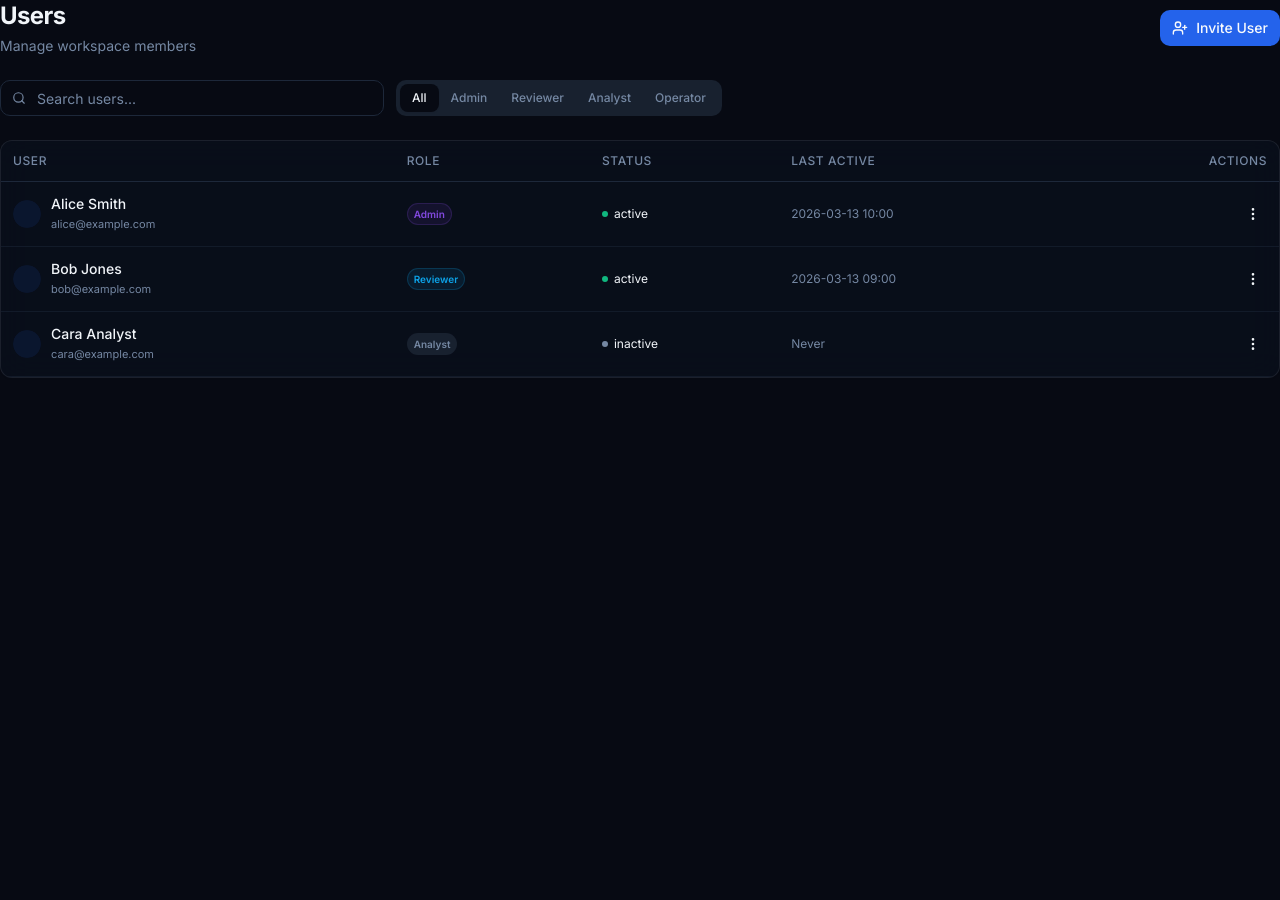
UsersPage › validates invite email before submitting
The image size is (1280, 900).
Click the button "Invite User".
click(1220, 28)  # box [1160,10,1279,46]
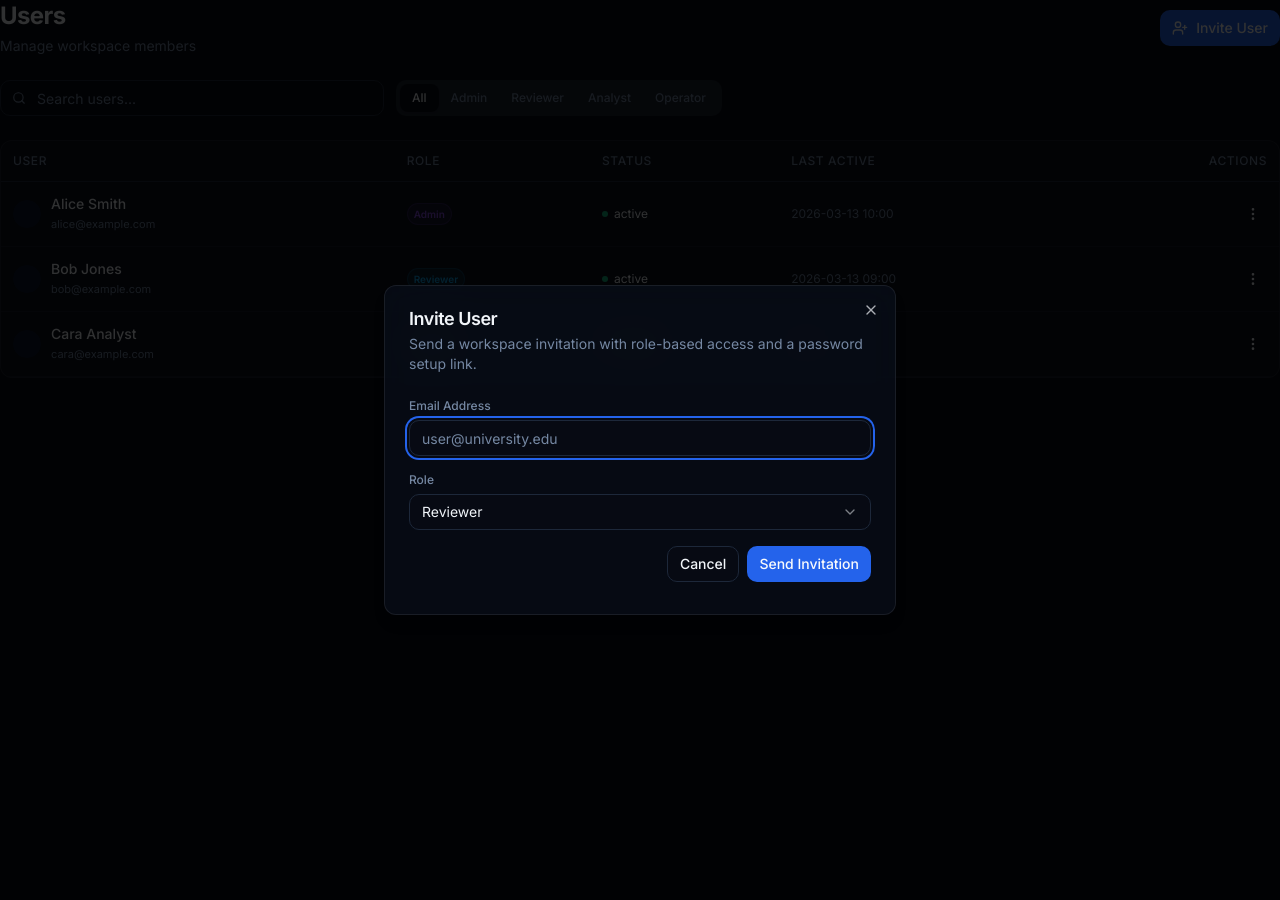
Click the button "Send Invitation".
click(809, 564)  # box [747,546,871,582]
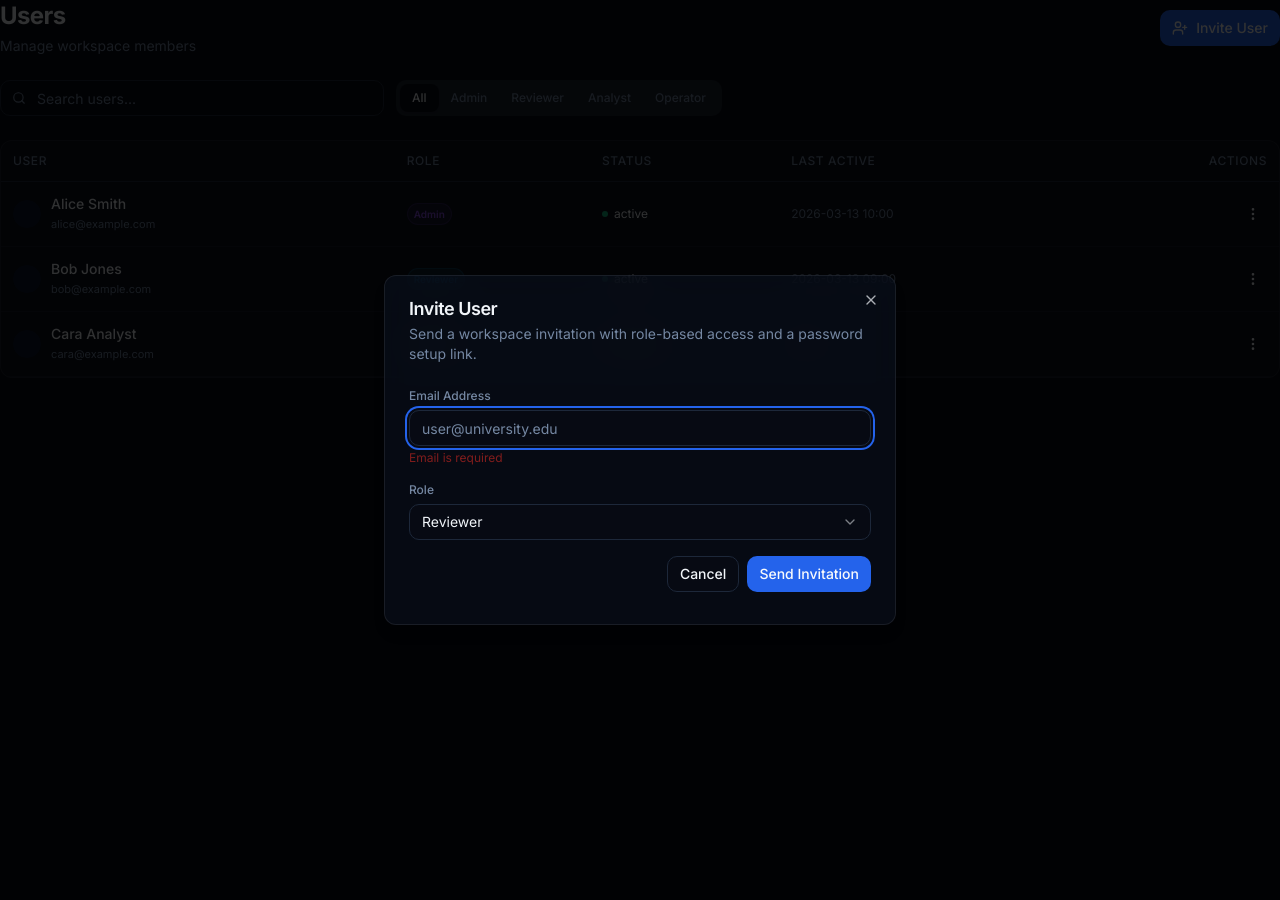
Result: the text "Email is required" is shown at [409,450,503,465]
